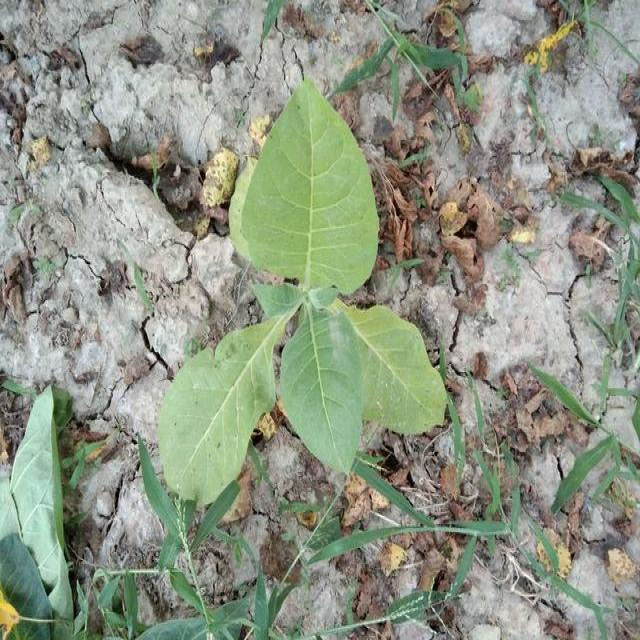crop: (154, 85, 482, 498)
